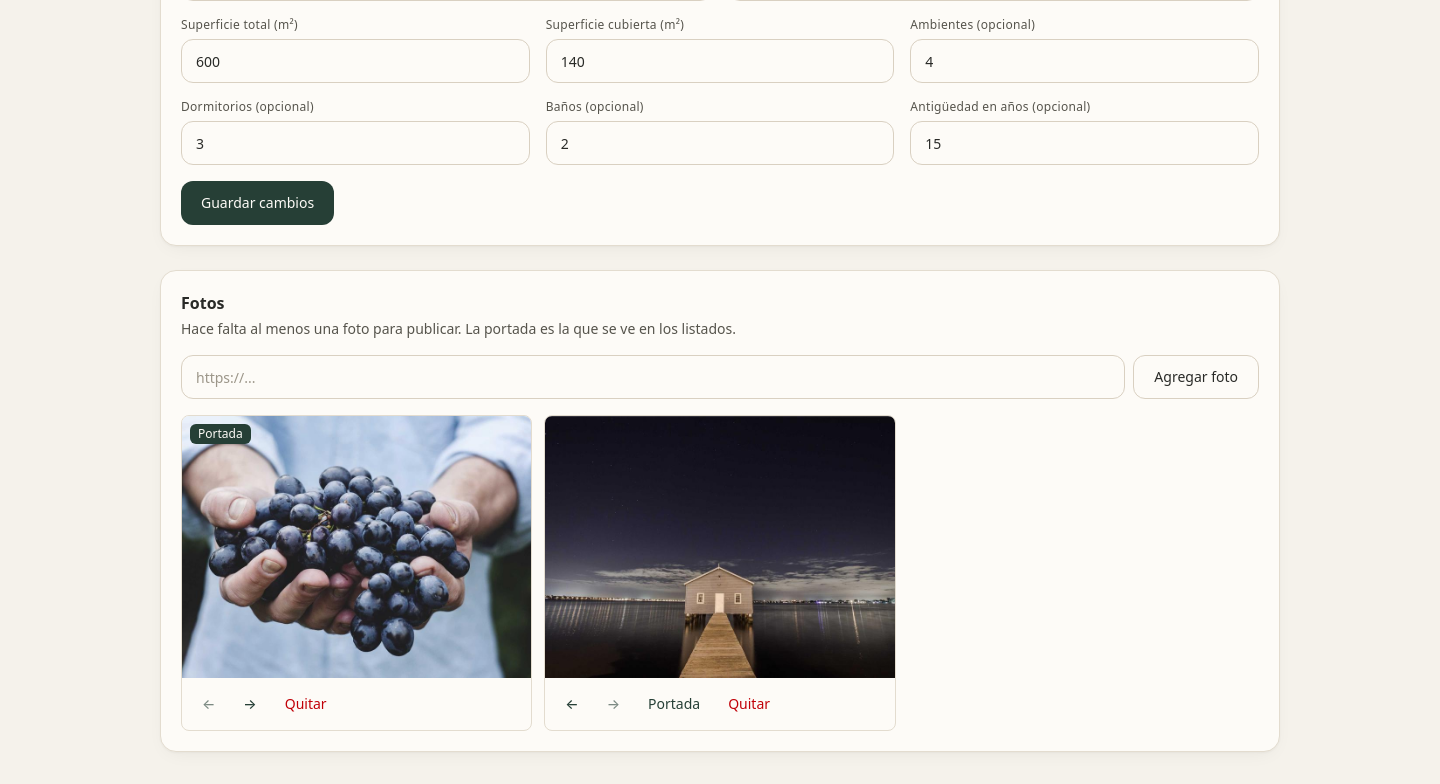
Scenario: galeria de fotos de la propiedad › quitar una foto pide confirmacion y muestra el motivo si el back la rechaza
The image size is (1440, 784).
(page scrolled)
Click the 1st button "Quitar" at (306, 704), box [273,686,339,722]
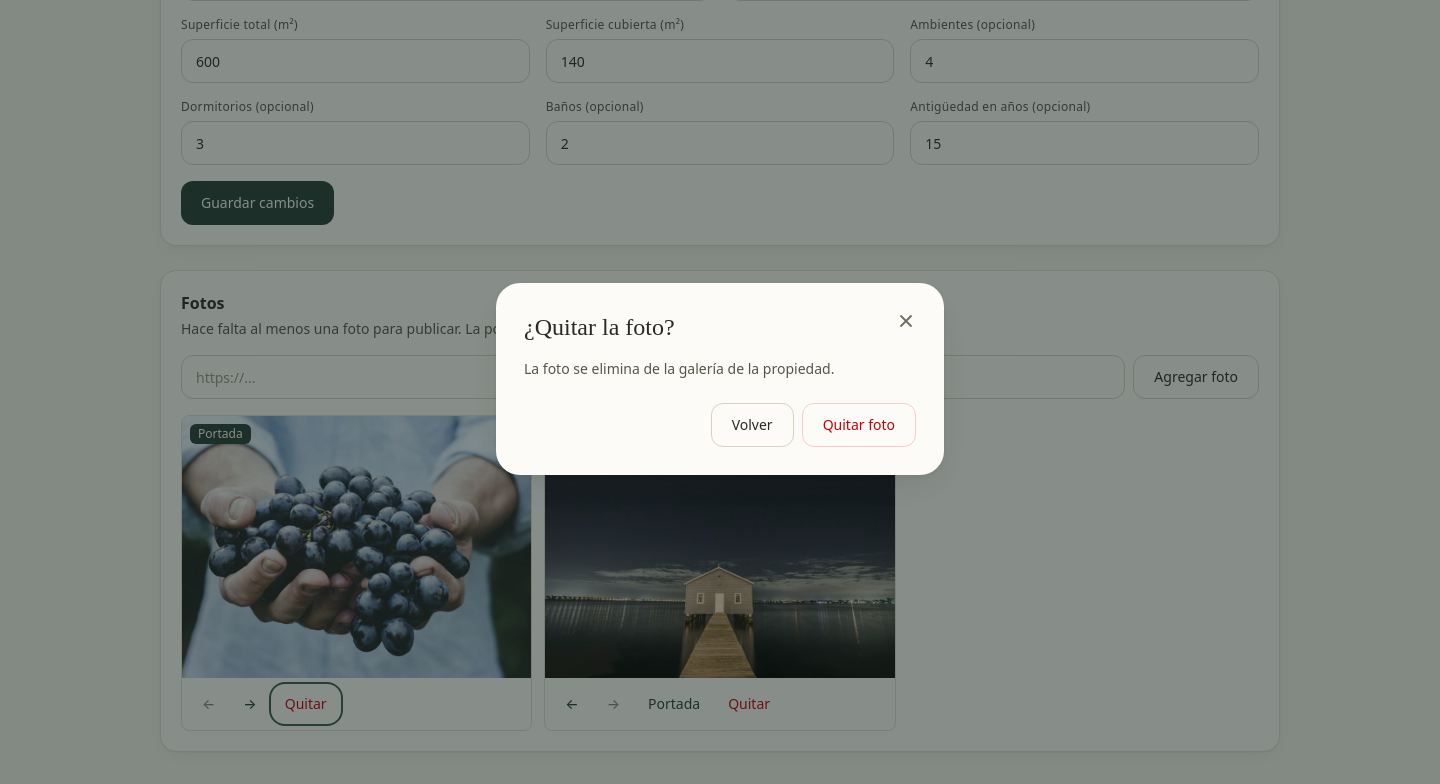
Click the button "Quitar foto" at (859, 425), box [802,403,916,447]
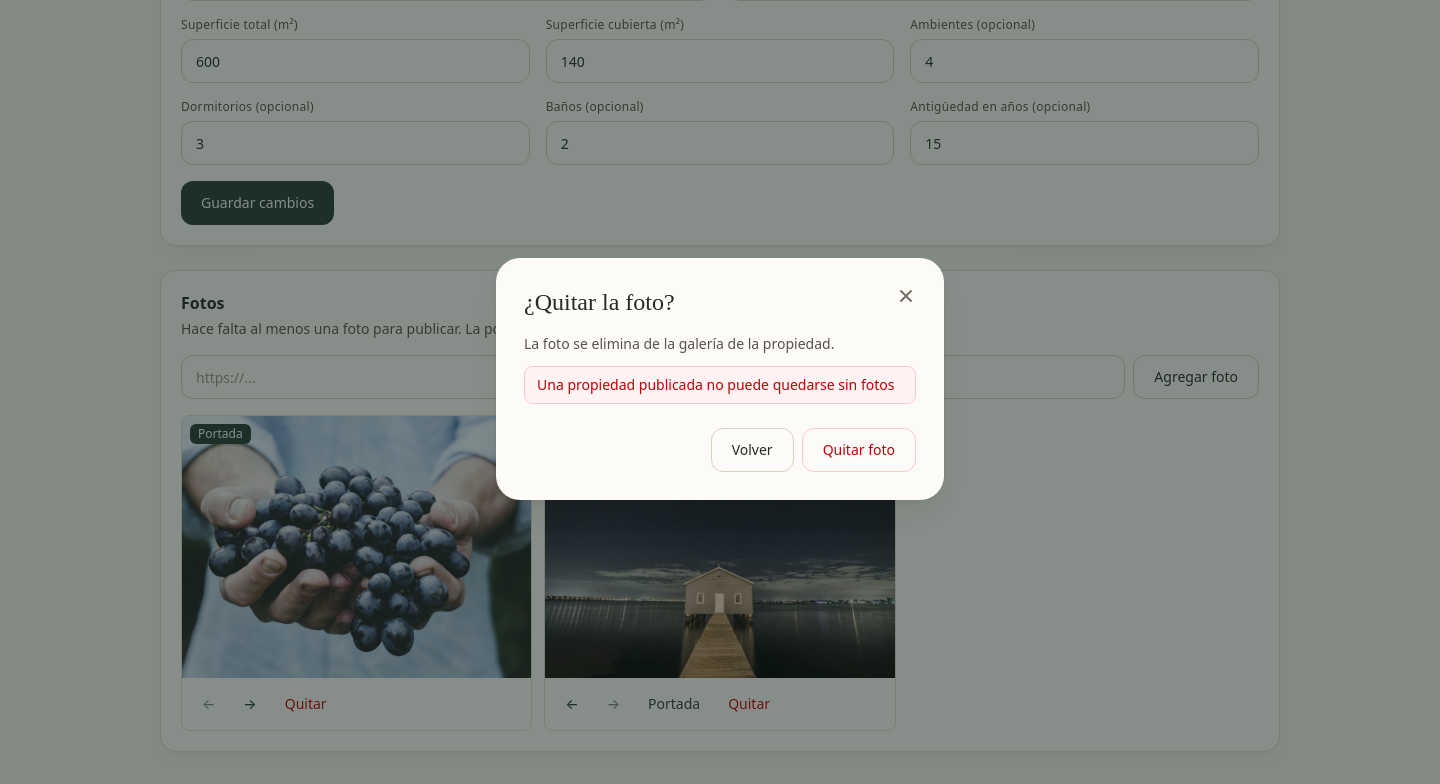
Result: the message reads "Una propiedad publicada no puede quedarse sin fotos" at [537,375,894,394]
